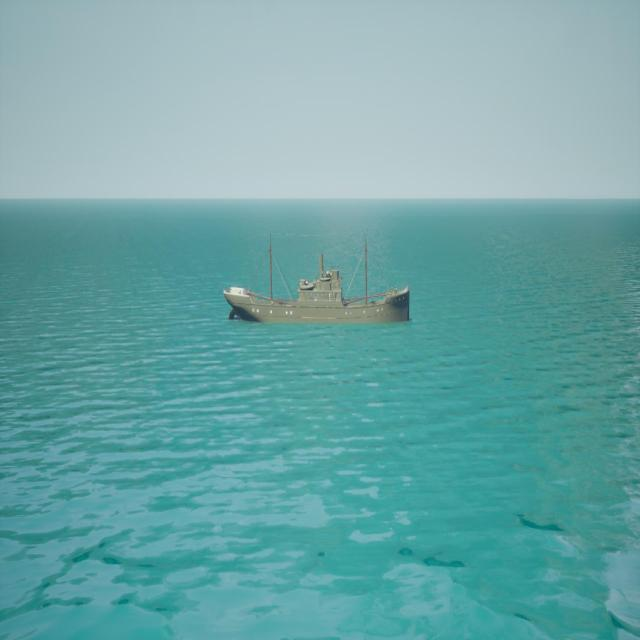fishing ship: (224, 233, 413, 325)
